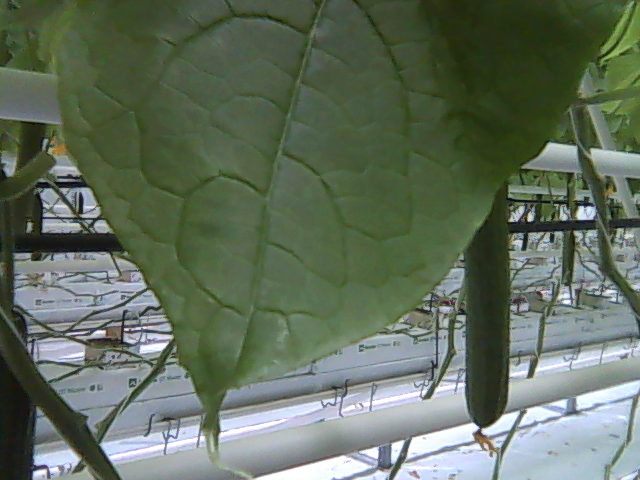concombre: (459, 177, 512, 457)
